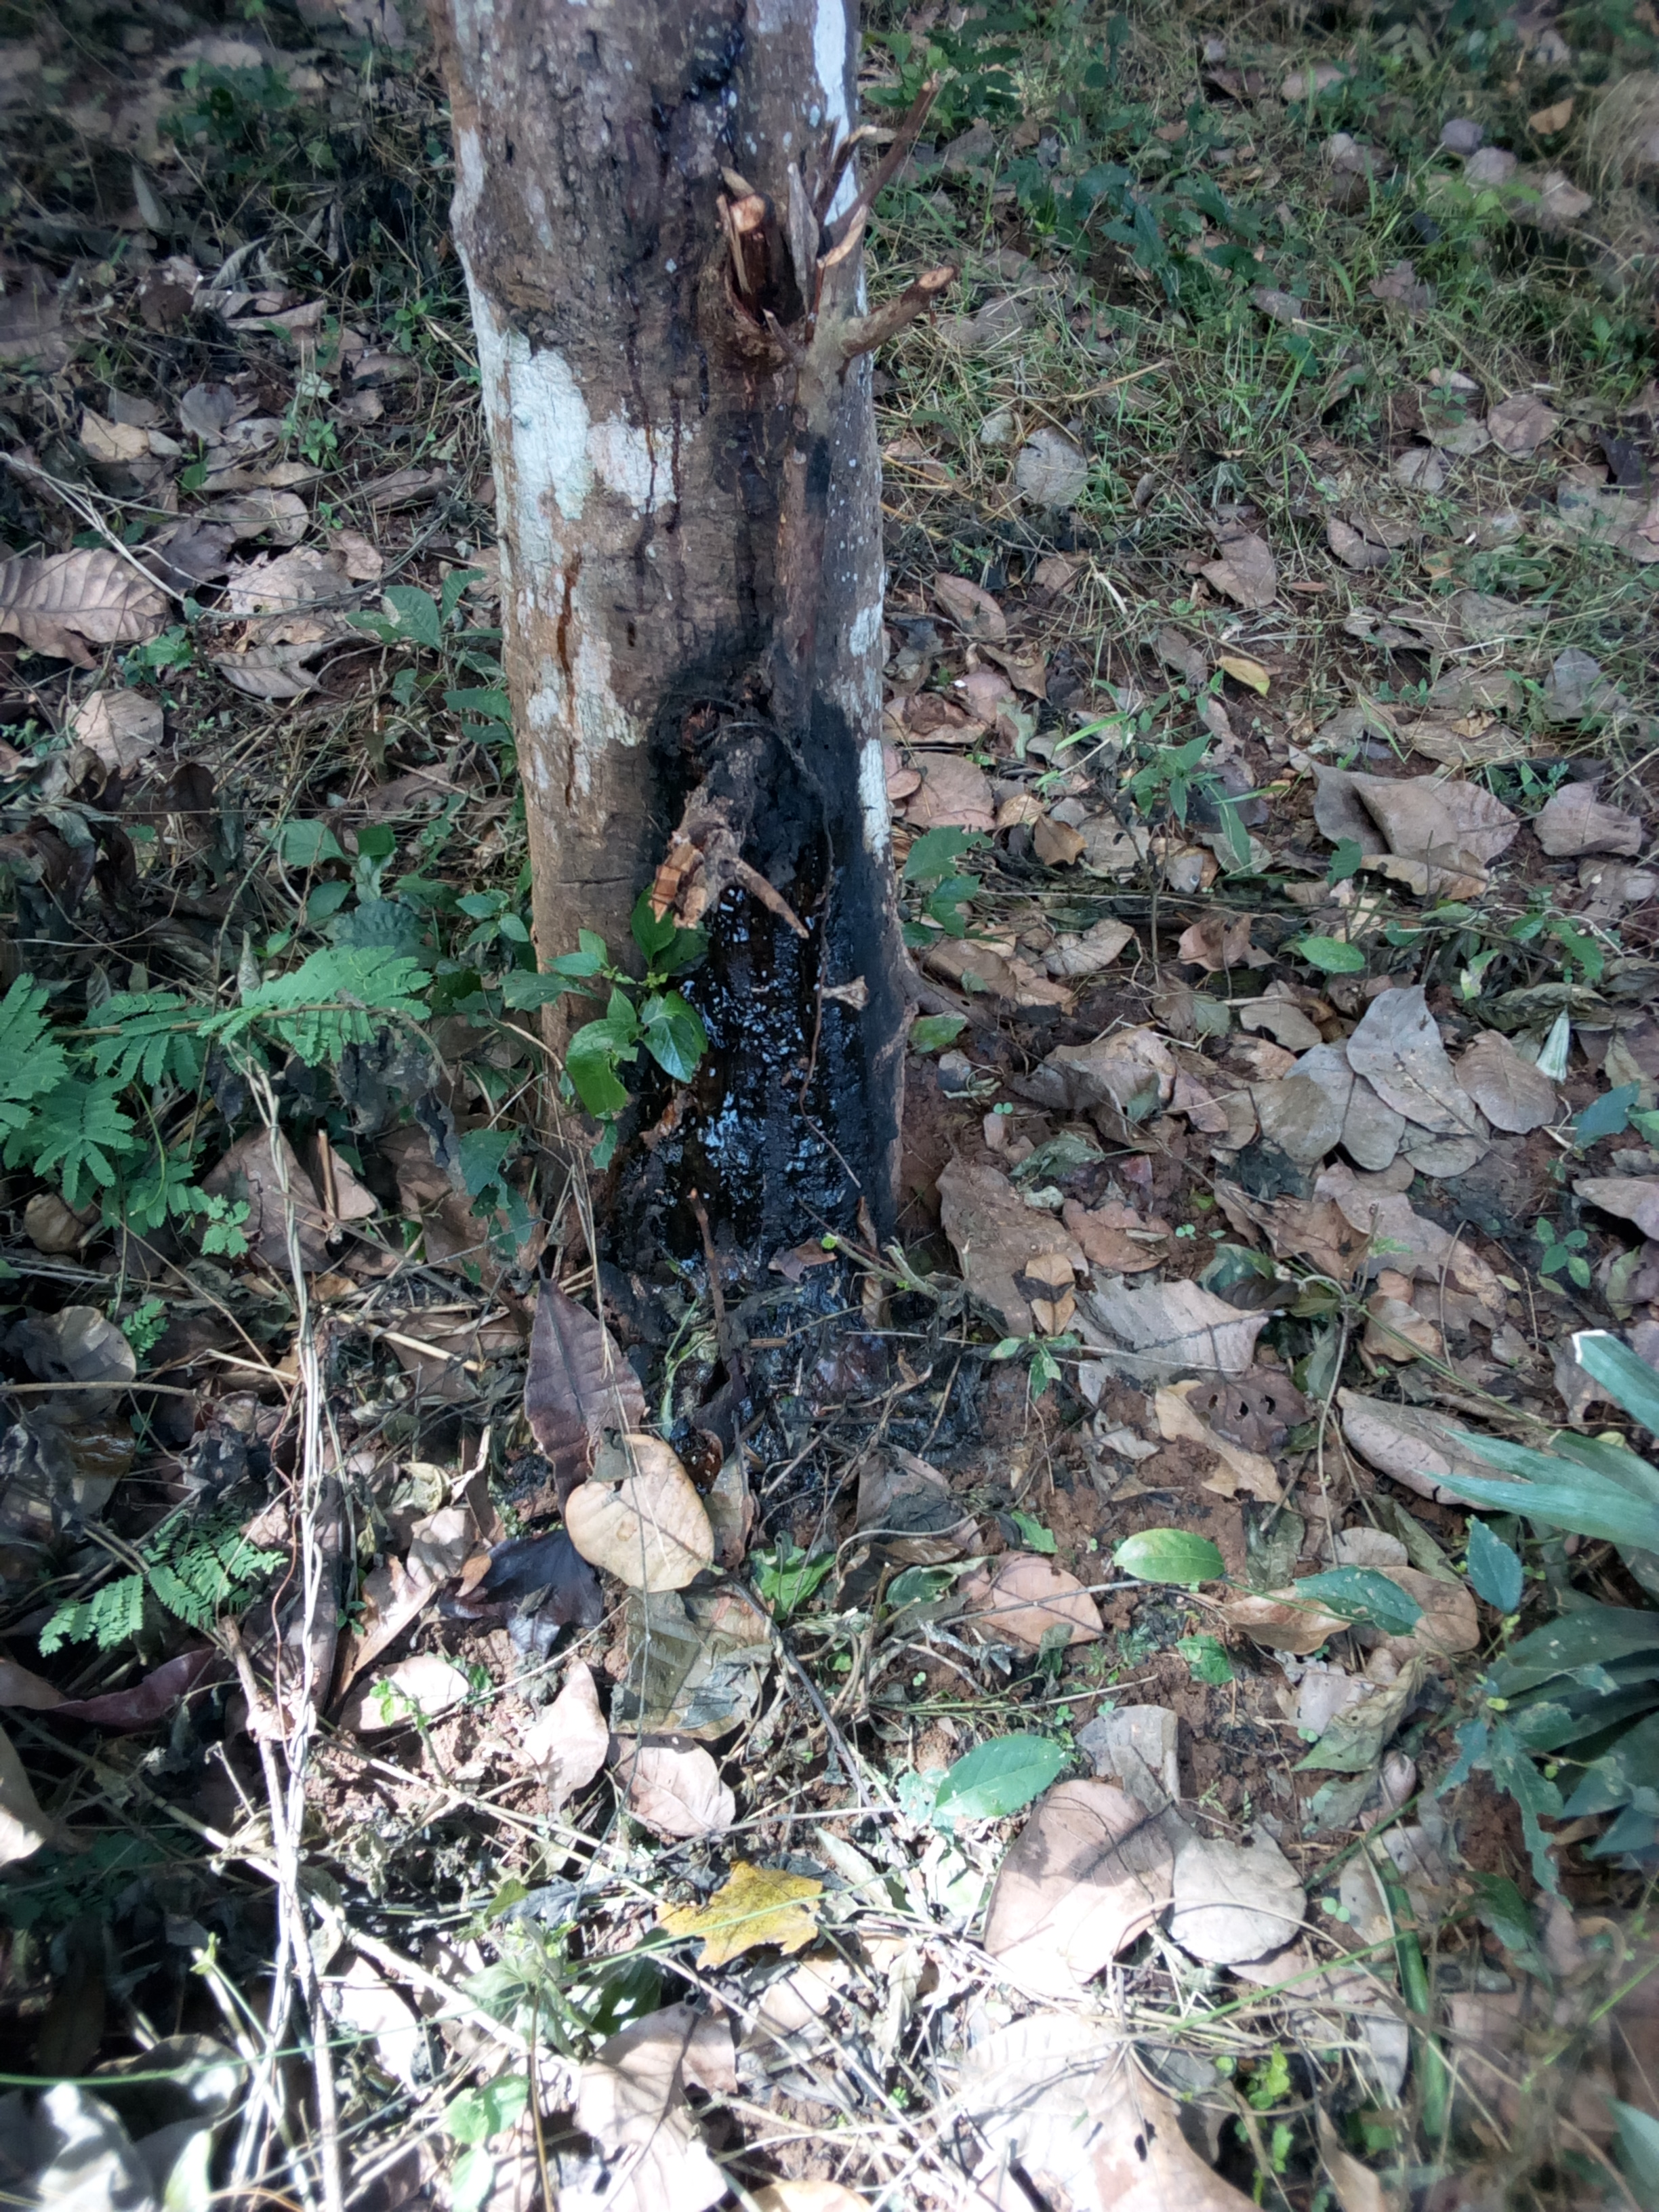Gommose: (647, 723, 901, 1249)
